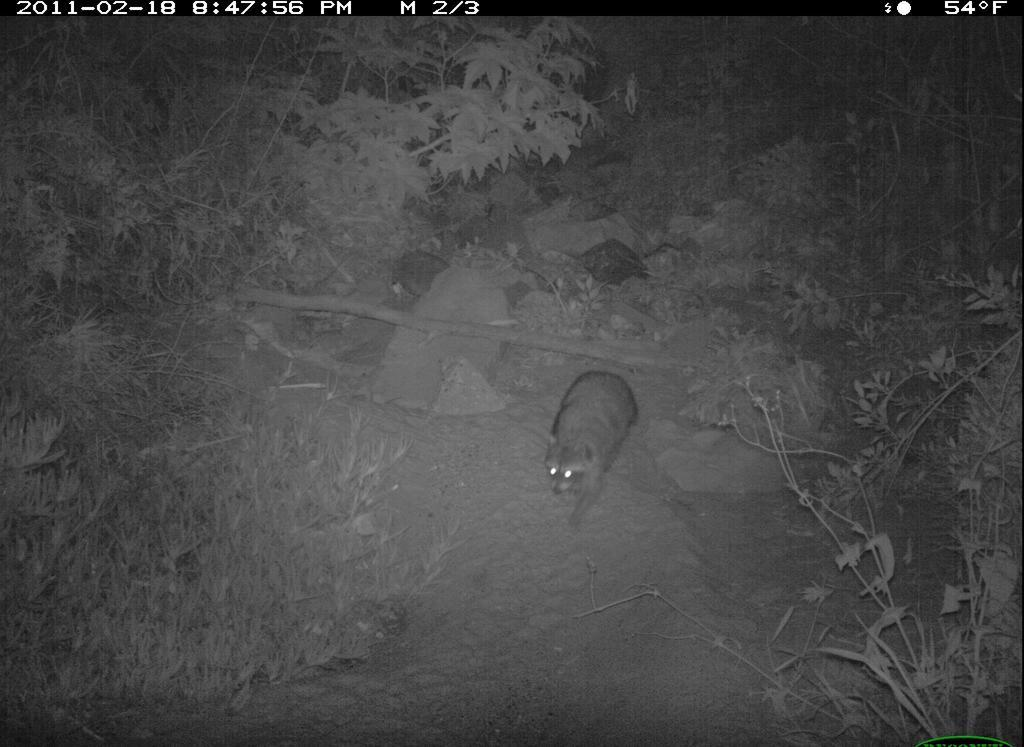raccoon: (534, 365, 649, 527)
